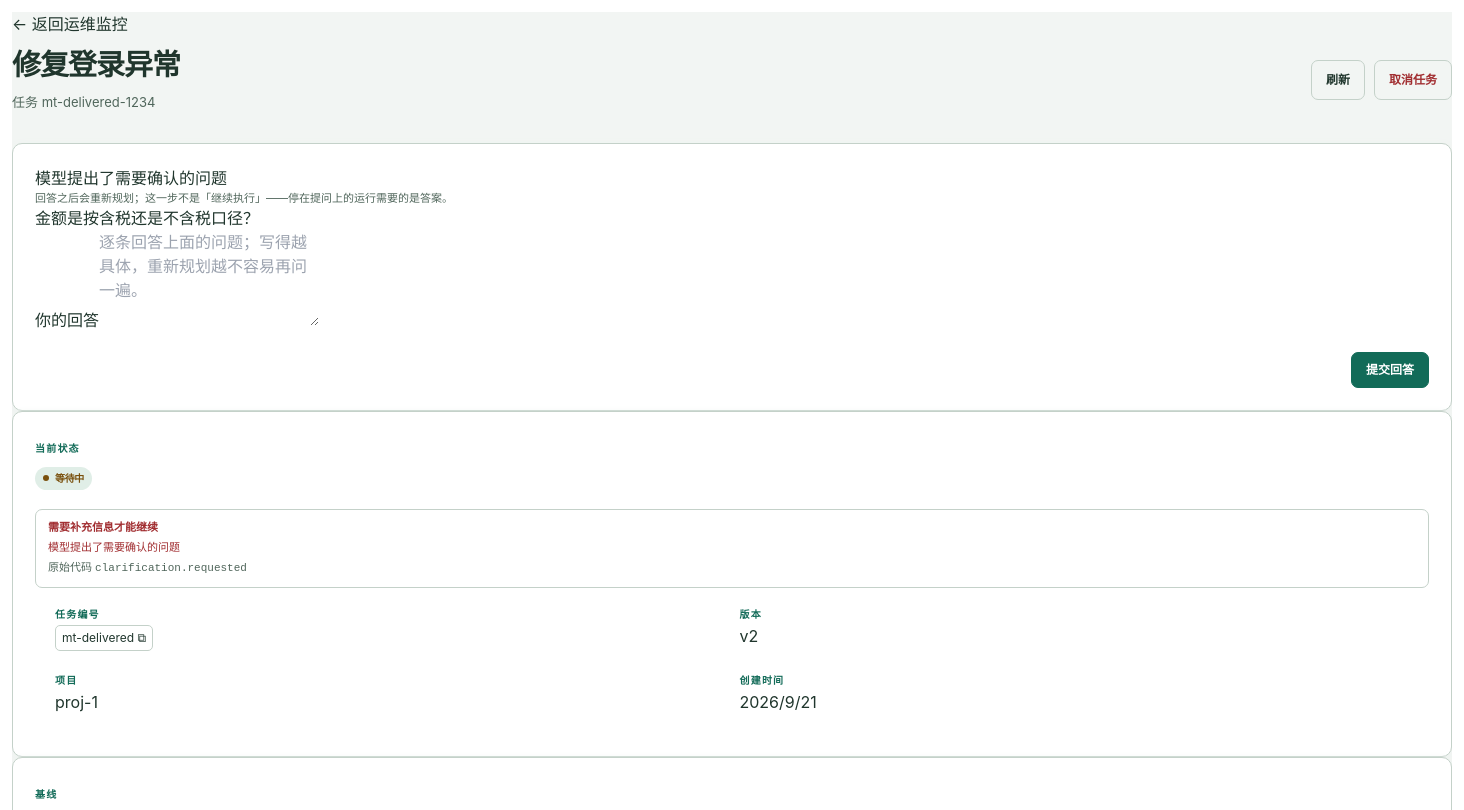
Test case: 模型提问时的回答入口 › 展示服务端给的问题，回答后用读回的真实状态刷新，刷新后未回答的问题仍在
Expected: the element with test id "clarification-panel" is shown, [12,143,1452,411]
Expected: the list with test id "clarification-questions" reads "金额是按含税还是不含税口径？", [35,208,259,228]
Type "按不含税口径" into the text box with test id "clarification-answer".
click(209, 278); type("按不含税口径")  # box [99,230,319,326]
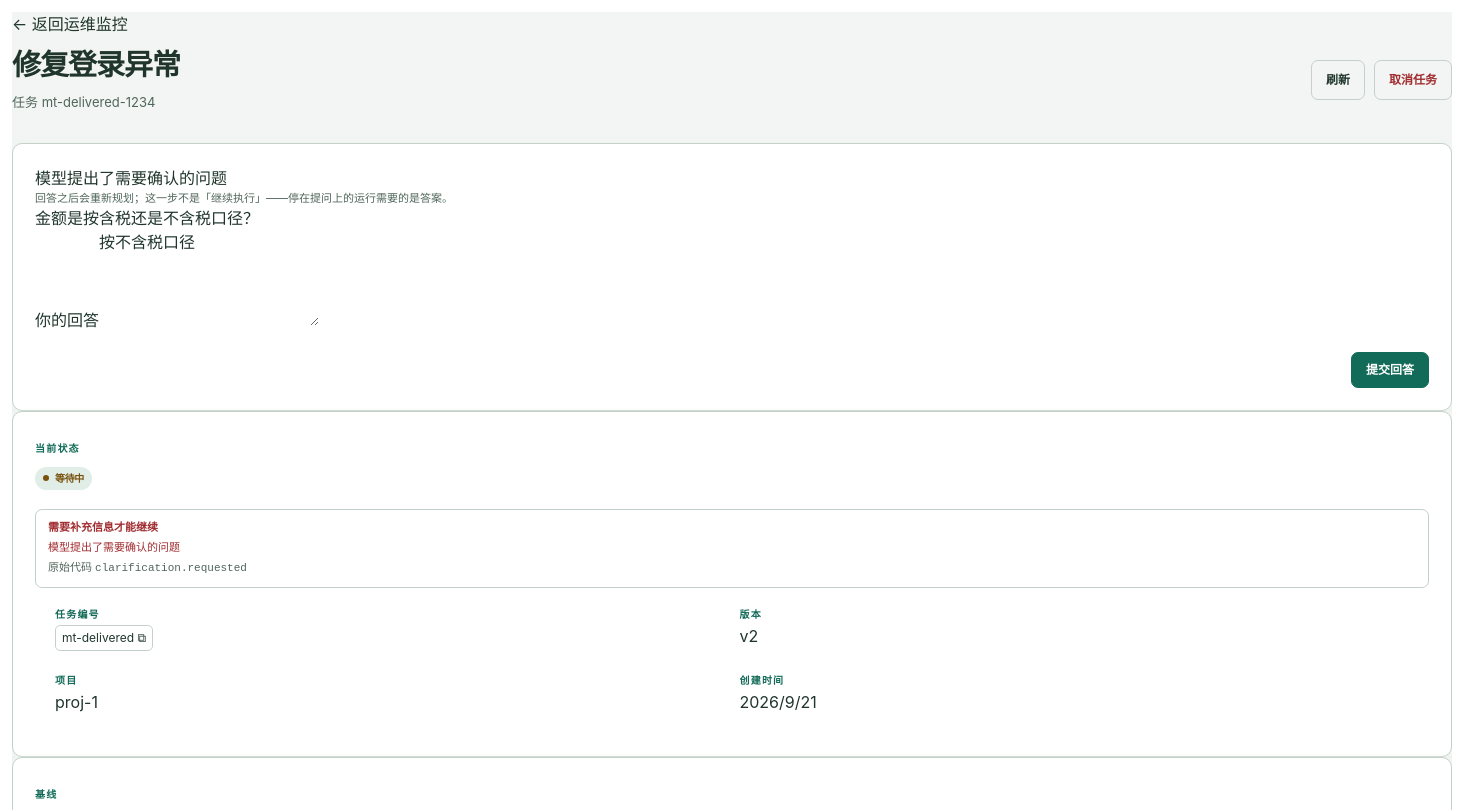
Click the button with test id "clarification-submit".
click(1390, 370)  # box [1351,352,1429,388]
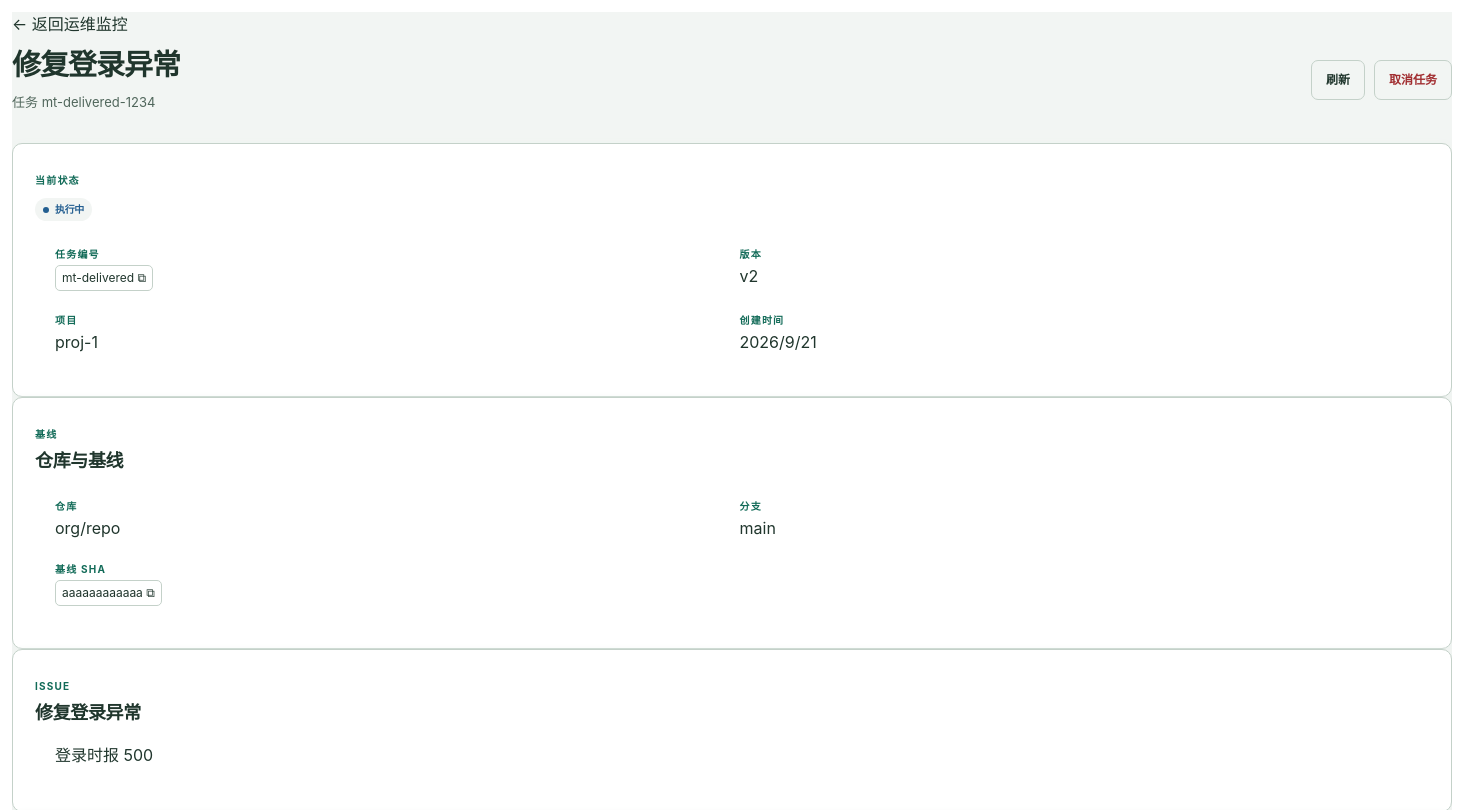
Now the element with test id "clarification-panel" is gone
